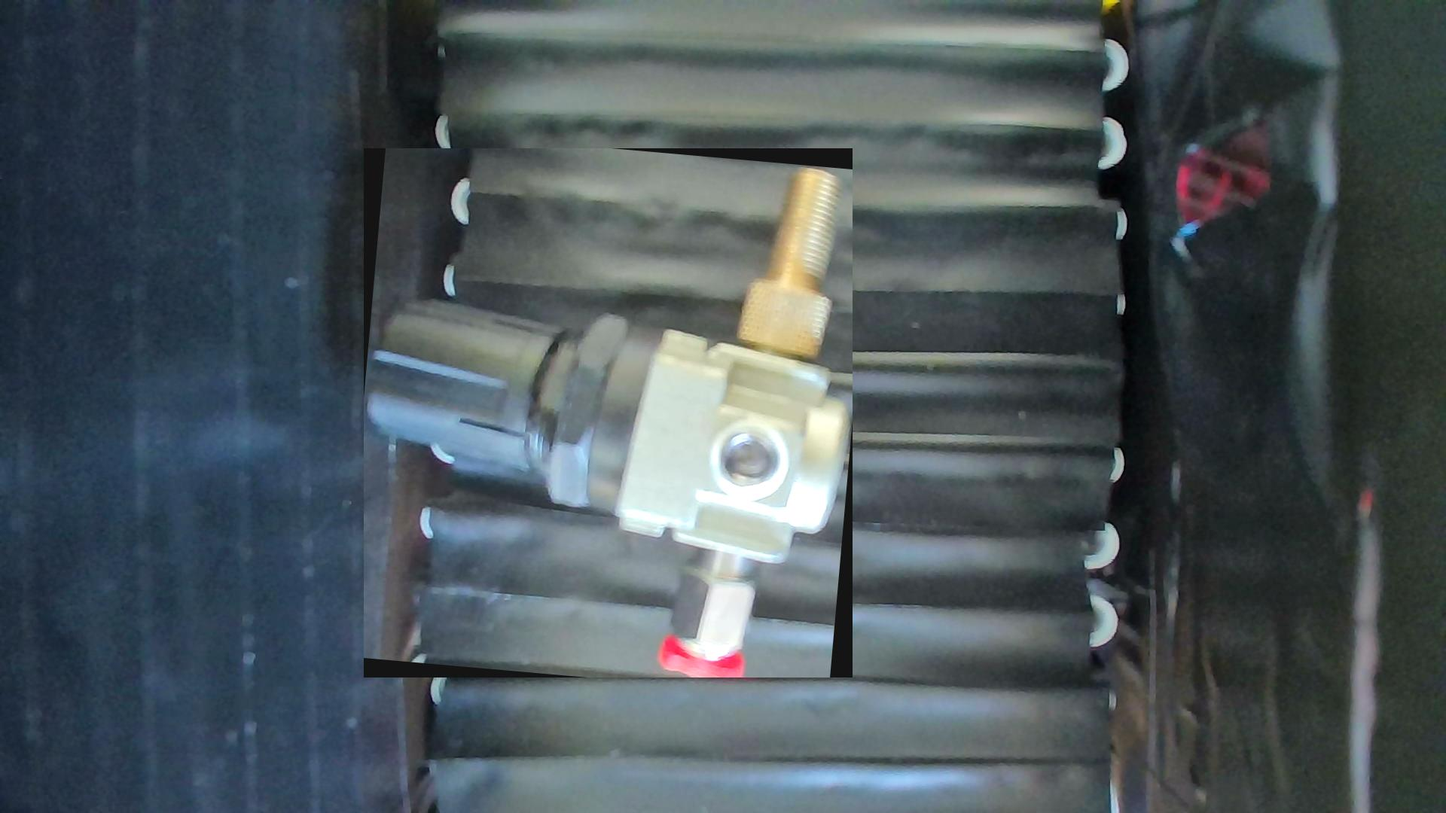regulator: (364, 148, 852, 677)
